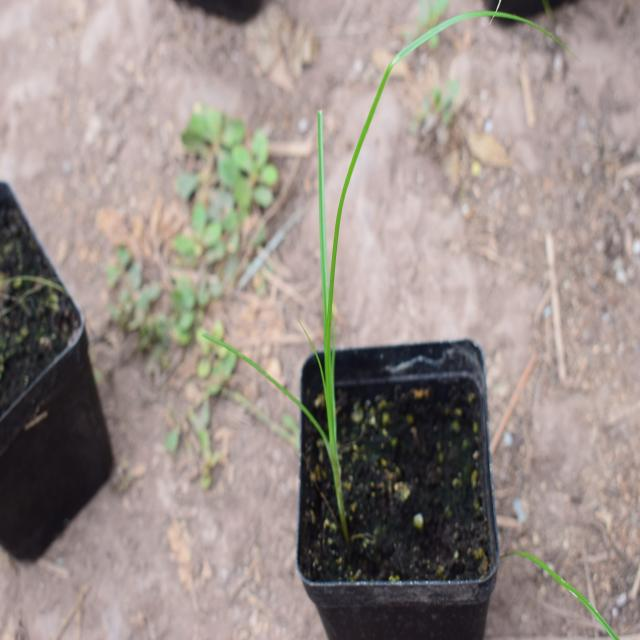sedge: (213, 44, 471, 487)
